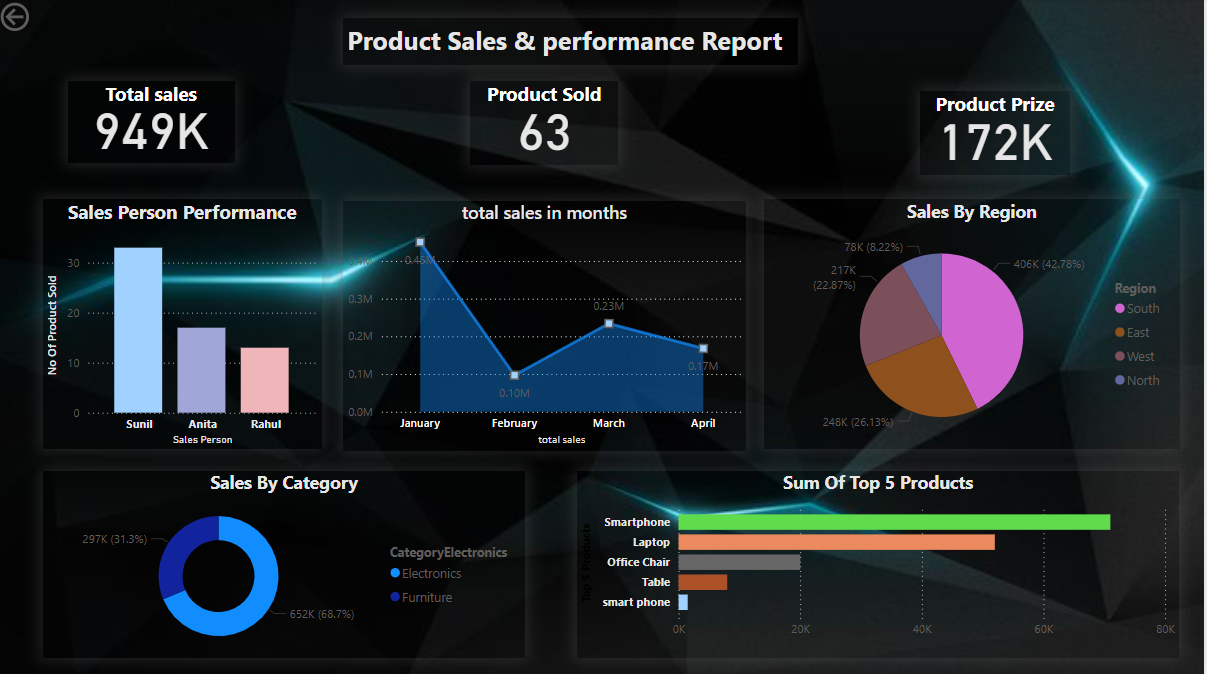

This screenshot's page, from the dashboard's own definition file:
{"tool":"powerbi","page":{"name":"Page 1","canvas":[1280,720],"ordinal":0},"visuals":[{"type":"card","title":"Total sales","fields":{"Values":["Sum(Page001.Total Sales)"]},"box":[76.3,87.5,176.6,87.5],"z":0},{"type":"card","title":"Product Prize","fields":{"Values":["Sum(Page001.Unit Price)"]},"box":[979.8,98.6,159.1,89.1],"z":1000},{"type":"card","title":"Product Sold","fields":{"Values":["Sum(Page001.Units Sold)"]},"box":[502.6,87.5,157.5,89.1],"z":2000},{"type":"lineChart","title":"total sales in months","fields":{"Y":["Sum(Page001.Total Sales)"],"Category":["Page001.Date.Variation.Date Hierarchy.Year","Page001.Date.Variation.Date Hierarchy.Month"],"Series":["Page001.Date.Variation.Date Hierarchy.Year"]},"box":[367.4,214.7,427.9,265.6],"z":3000},{"type":"clusteredBarChart","title":"Sum Of Top 5 Products","fields":{"Category":["Page001.ProductLaptop"],"Y":["Sum(Page001.Unit Price)"]},"box":[615.6,501,639.4,198.8],"z":4000},{"type":"pieChart","title":"Sales By Region","fields":{"Category":["Page001.RegionNorth"],"Y":["Sum(Page001.Total Sales)"]},"box":[814.4,213.1,440.6,265.6],"z":5000},{"type":"actionButton","box":[0,0,100,40],"z":6000},{"type":"donutChart","title":"Sales By Category","fields":{"Category":["Page001.CategoryElectronics"],"Y":["Sum(Page001.Total Sales)"]},"box":[49.3,501,512.2,198.8],"z":7000},{"type":"clusteredColumnChart","title":"Sales Person Performance","fields":{"Category":["Page001.SalespersonRahul"],"Y":["Sum(Page001.Units Sold)"]},"box":[49.3,213.1,295.9,265.6],"z":8000},{"type":"textbox","box":[367.4,20.7,483.5,50.9],"z":8001}]}

Visuals, with their boxes in screenshot pixels (x1, y1, x2, y2), scaled from the page's 1280x720 canvas onto the 1207x674 screenshot:
"Total sales" card: [left=72, top=82, right=238, bottom=164]
"Product Prize" card: [left=924, top=92, right=1074, bottom=176]
"Product Sold" card: [left=474, top=82, right=622, bottom=165]
"total sales in months" lineChart: [left=346, top=201, right=750, bottom=450]
"Sum Of Top 5 Products" clusteredBarChart: [left=580, top=469, right=1183, bottom=655]
"Sales By Region" pieChart: [left=768, top=199, right=1183, bottom=448]
actionButton: [left=0, top=0, right=94, bottom=37]
"Sales By Category" donutChart: [left=46, top=469, right=529, bottom=655]
"Sales Person Performance" clusteredColumnChart: [left=46, top=199, right=326, bottom=448]
textbox: [left=346, top=19, right=802, bottom=67]
